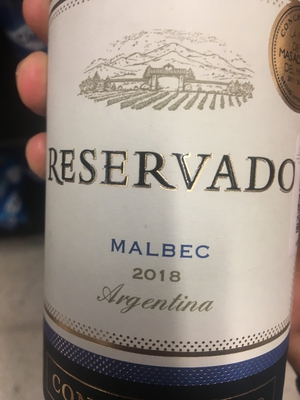reservado malbec: (36, 6, 300, 393)
